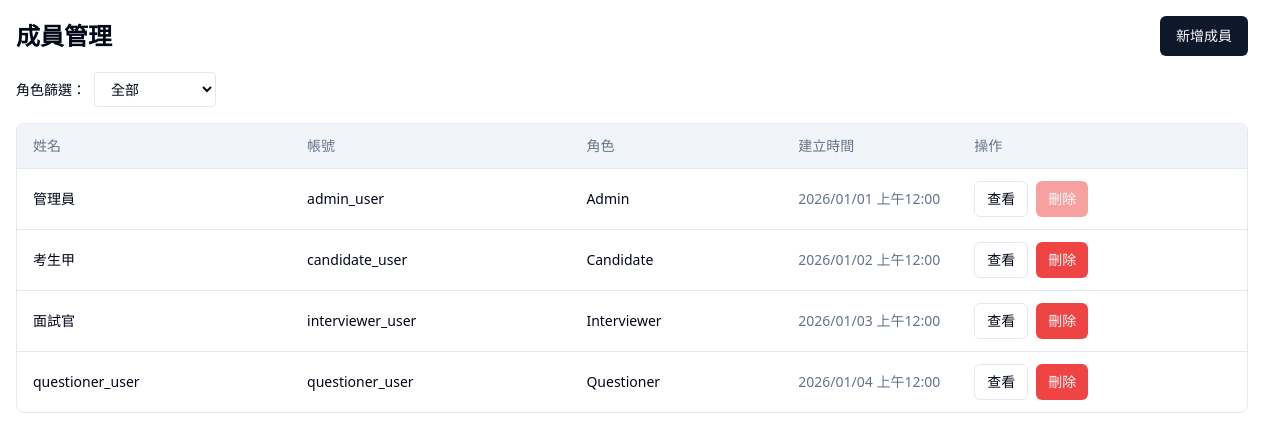
MemberListPage › role filter "Admin" shows only Admin rows
Expected: the text "admin_user" is shown, [291, 168, 570, 230]
Select "Admin" in the dropdown labelled "角色篩選：" at (155, 90), box [94, 72, 216, 107]
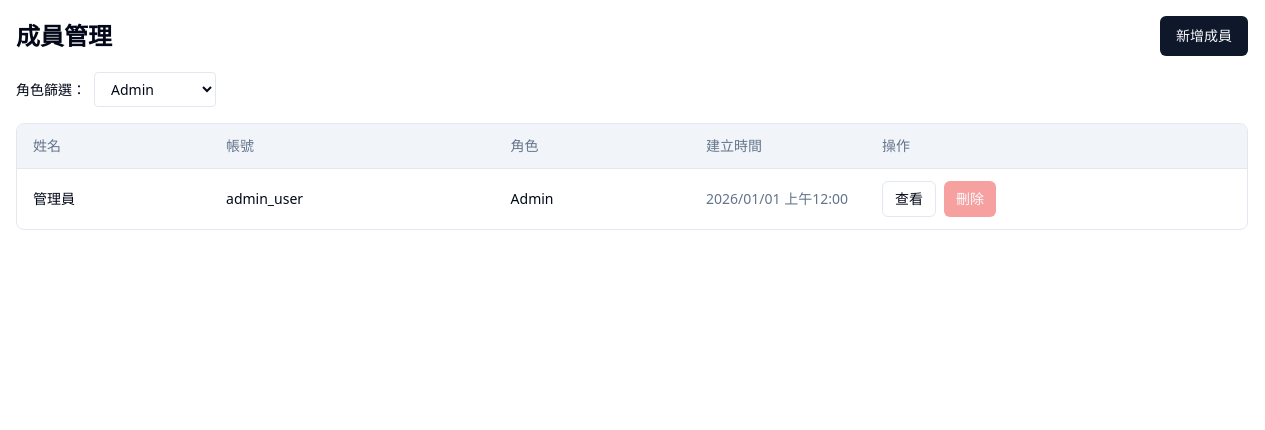
Expected: the text "candidate_user" is gone
Expected: the text "interviewer_user" is gone
Expected: the text "questioner_user" is gone
